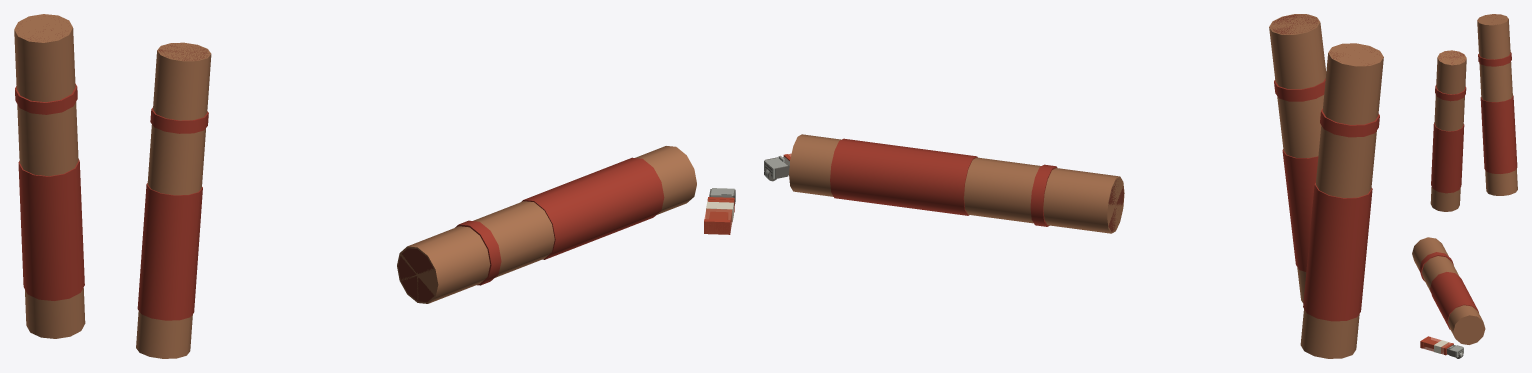
The model's file is DoTrongTu.glb.
The picture shows the model from 3 angles, left to right: view 1: azimuth 30°, elevation 25°; view 2: azimuth 150°, elevation 25°; view 3: azimuth 270°, elevation 25°; orthographic projection. The views are drawn at different scales.
Parts seen in each view (by area): view 1: BoNhang_1_Than, BoNhang_3_Than, BoNhang_2_Than, BoNhang_1_GiayBoc, BoNhang_3_GiayBoc, BoNhang_2_GiayBoc, BoNhang_3_DauNhang, BoNhang_1_BangGiay, BoNhang_3_BangGiay, BoNhang_2_BangGiay, BatLua_VoTrong; view 2: BoNhang_3_Than, BoNhang_1_Than, BoNhang_3_GiayBoc, BoNhang_1_GiayBoc, BoNhang_2_Than, BoNhang_2_GiayBoc, BoNhang_3_BangGiay, BoNhang_1_BangGiay, BoNhang_2_BangGiay; view 3: BoNhang_1_Than, BoNhang_2_Than, BoNhang_1_GiayBoc, BoNhang_3_Than, BoNhang_2_GiayBoc, BoNhang_3_GiayBoc, BoNhang_1_BangGiay, BoNhang_2_BangGiay, BatLua_VoTrong, BoNhang_3_BangGiay, BatLua_NhanGiay.
Part boxes in pixels (x1=…): BoNhang_1_Than: x1=14, y1=14, x2=85, y2=338; BoNhang_3_Than: x1=397, y1=146, x2=696, y2=303; BoNhang_2_Than: x1=136, y1=42, x2=211, y2=358; BoNhang_1_GiayBoc: x1=18, y1=159, x2=84, y2=300; BoNhang_3_GiayBoc: x1=521, y1=157, x2=664, y2=259; BoNhang_2_GiayBoc: x1=137, y1=183, x2=202, y2=320; BoNhang_3_DauNhang: x1=398, y1=248, x2=434, y2=302; BoNhang_1_BangGiay: x1=15, y1=83, x2=77, y2=114; BoNhang_3_BangGiay: x1=455, y1=220, x2=501, y2=285; BoNhang_2_BangGiay: x1=150, y1=107, x2=208, y2=133; BatLua_VoTrong: x1=704, y1=199, x2=733, y2=234; BoNhang_3_Than: x1=789, y1=134, x2=1124, y2=233; BoNhang_1_Than: x1=1300, y1=43, x2=1383, y2=358; BoNhang_3_GiayBoc: x1=830, y1=138, x2=977, y2=215; BoNhang_1_GiayBoc: x1=1303, y1=183, x2=1372, y2=321; BoNhang_2_Than: x1=1269, y1=14, x2=1326, y2=302; BoNhang_2_GiayBoc: x1=1282, y1=149, x2=1318, y2=271; BoNhang_3_BangGiay: x1=1030, y1=164, x2=1057, y2=226; BoNhang_1_BangGiay: x1=1320, y1=108, x2=1379, y2=137; BoNhang_2_BangGiay: x1=1274, y1=78, x2=1325, y2=101; BoNhang_1_Than: x1=1477, y1=14, x2=1517, y2=195; BoNhang_2_Than: x1=1430, y1=50, x2=1466, y2=211; BoNhang_1_GiayBoc: x1=1480, y1=95, x2=1517, y2=173; BoNhang_3_Than: x1=1412, y1=237, x2=1485, y2=344; BoNhang_2_GiayBoc: x1=1431, y1=123, x2=1464, y2=193; BoNhang_3_GiayBoc: x1=1430, y1=272, x2=1478, y2=329; BoNhang_1_BangGiay: x1=1478, y1=52, x2=1511, y2=66; BoNhang_2_BangGiay: x1=1435, y1=85, x2=1466, y2=101; BatLua_VoTrong: x1=1423, y1=337, x2=1451, y2=354; BoNhang_3_BangGiay: x1=1419, y1=252, x2=1453, y2=281; BatLua_NhanGiay: x1=1434, y1=340, x2=1448, y2=353.
Bounding box in the file's own units: 0.6953 × 0.3063 × 0.1736.
